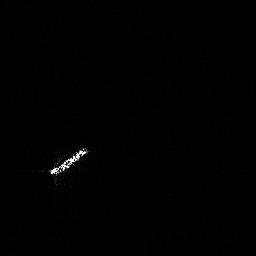ship: (49, 147, 86, 175)
